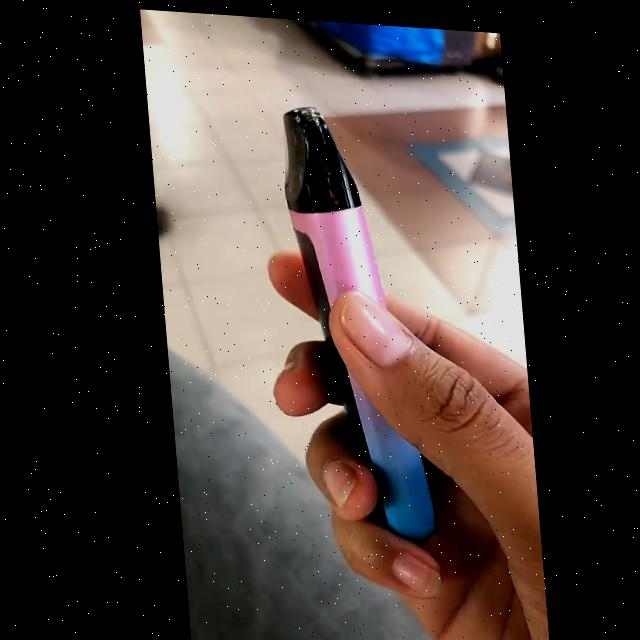vape: (277, 97, 433, 534)
